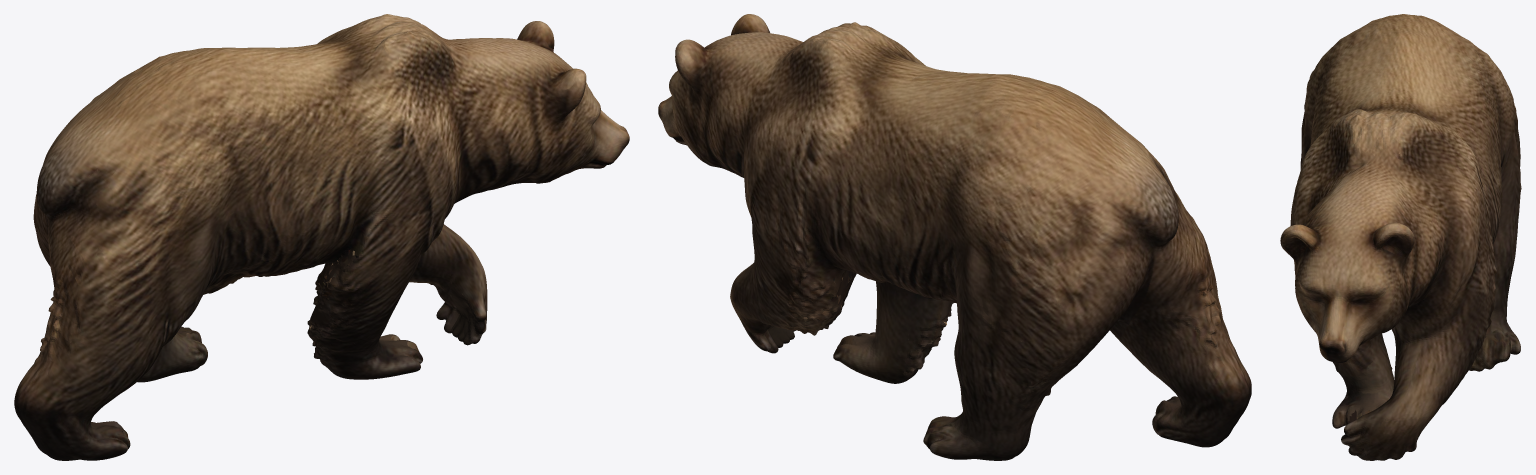
The model's file is bear_cub_paint.glb.
3 views of the same model, side by side, from view 1: azimuth 30°, elevation 25°; view 2: azimuth 150°, elevation 25°; view 3: azimuth 270°, elevation 25° (orthographic). The views are drawn at different scales.
Parts seen in each view (by area): view 1: temp_mesh.ply; view 2: temp_mesh.ply; view 3: temp_mesh.ply.
Boxes of the visible parts, left/top/right/bottom form: temp_mesh.ply: left=14, top=14, right=629, bottom=460; temp_mesh.ply: left=658, top=14, right=1251, bottom=460; temp_mesh.ply: left=1280, top=14, right=1521, bottom=460.
Size of the model in its own units: 1.97 by 1.08 by 0.7221.
1 material, 1 textured.
